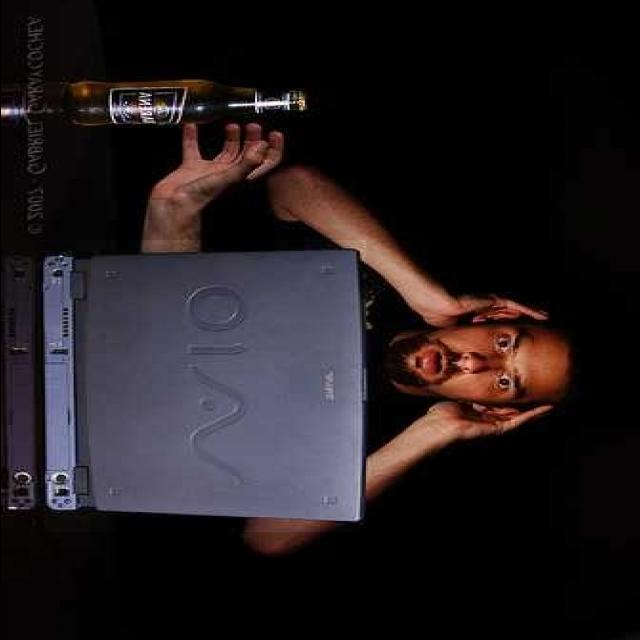-keyboard-: (44, 240, 366, 532)
